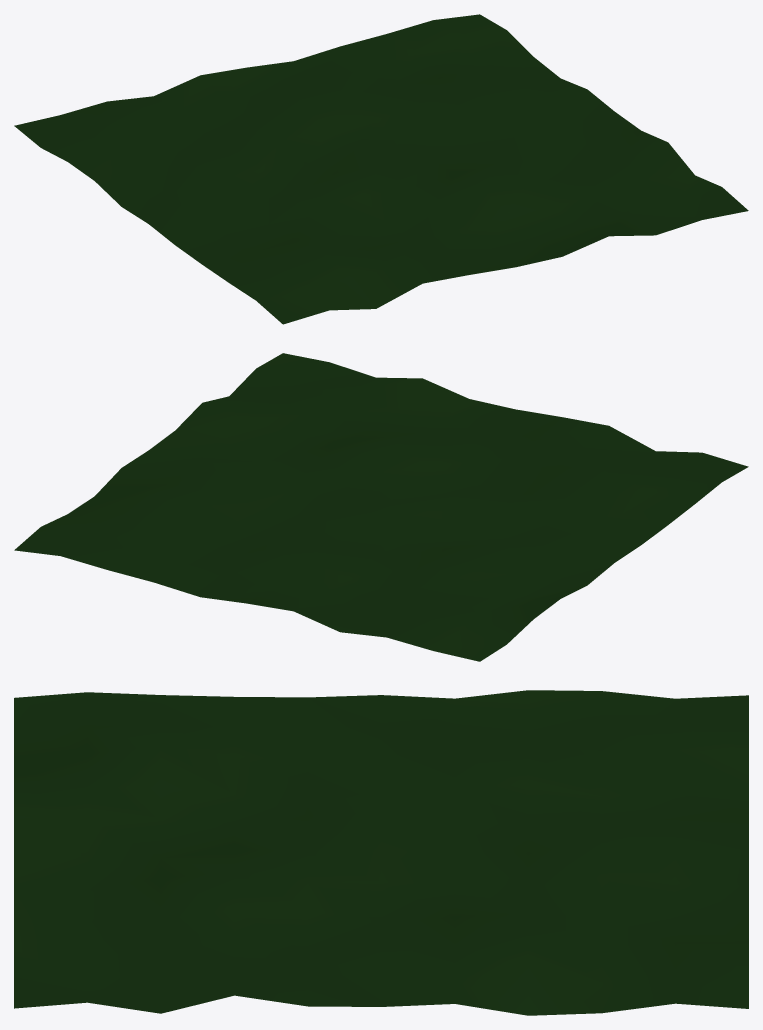
File: Grass.fbx
The picture shows the model from 3 angles, top to bottom: view 1: azimuth 30°, elevation 25°; view 2: azimuth 150°, elevation 25°; view 3: azimuth 270°, elevation 25°; orthographic projection. The views are drawn at different scales.
Parts seen in each view (by area): view 1: Grassass; view 2: Grassass; view 3: Grassass.
Part boxes in pixels (left/top/right/bottom): Grassass: left=14, top=14, right=748, bottom=324; Grassass: left=14, top=353, right=748, bottom=661; Grassass: left=14, top=690, right=748, bottom=1015.
Size of the model in its own units: 789 by 29.76 by 789.
